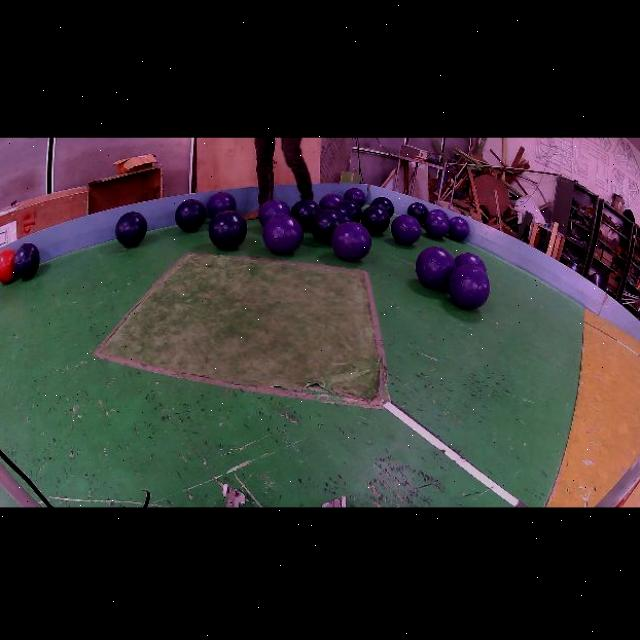B: (209, 210, 247, 248), (310, 209, 345, 243), (115, 211, 147, 246), (13, 242, 40, 279), (175, 198, 206, 230), (291, 198, 319, 229), (362, 203, 390, 233), (339, 198, 362, 221), (407, 201, 429, 223), (371, 196, 394, 216), (331, 203, 354, 220)
P: (448, 264, 490, 309), (416, 246, 456, 288), (331, 220, 372, 260), (263, 214, 304, 254), (391, 214, 421, 245), (259, 198, 291, 225), (206, 191, 236, 216), (425, 209, 449, 238), (454, 252, 486, 272), (449, 216, 470, 239), (344, 187, 366, 206), (319, 192, 342, 209)
R: (0, 247, 16, 282)
